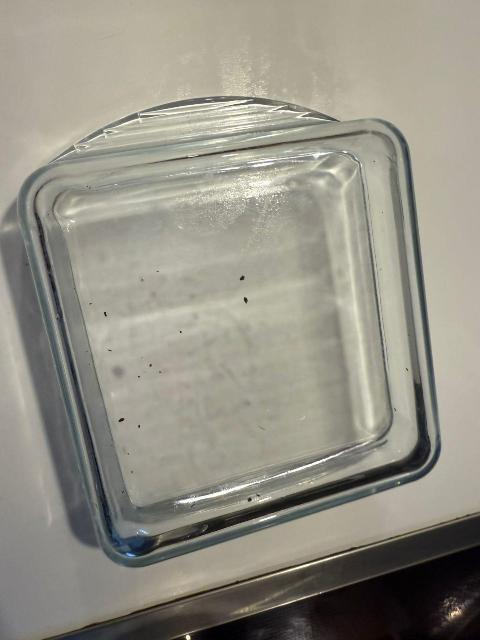Cam: (19, 97, 460, 565)
